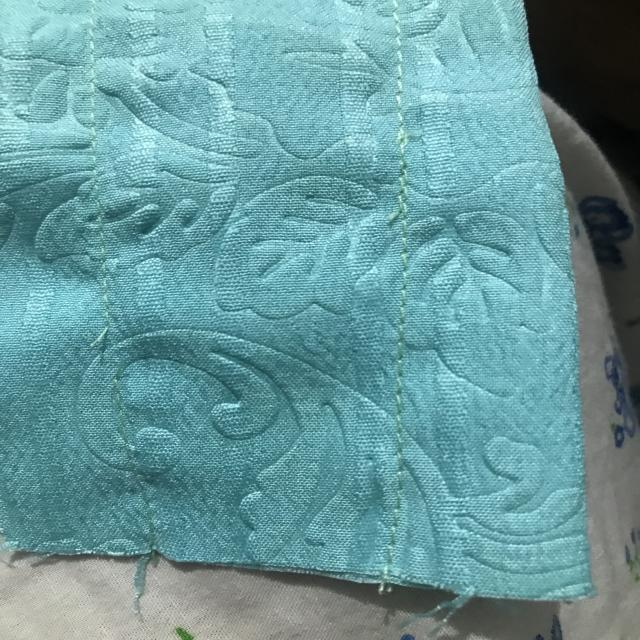broken: (69, 316, 144, 399)
good: (397, 274, 415, 338)
